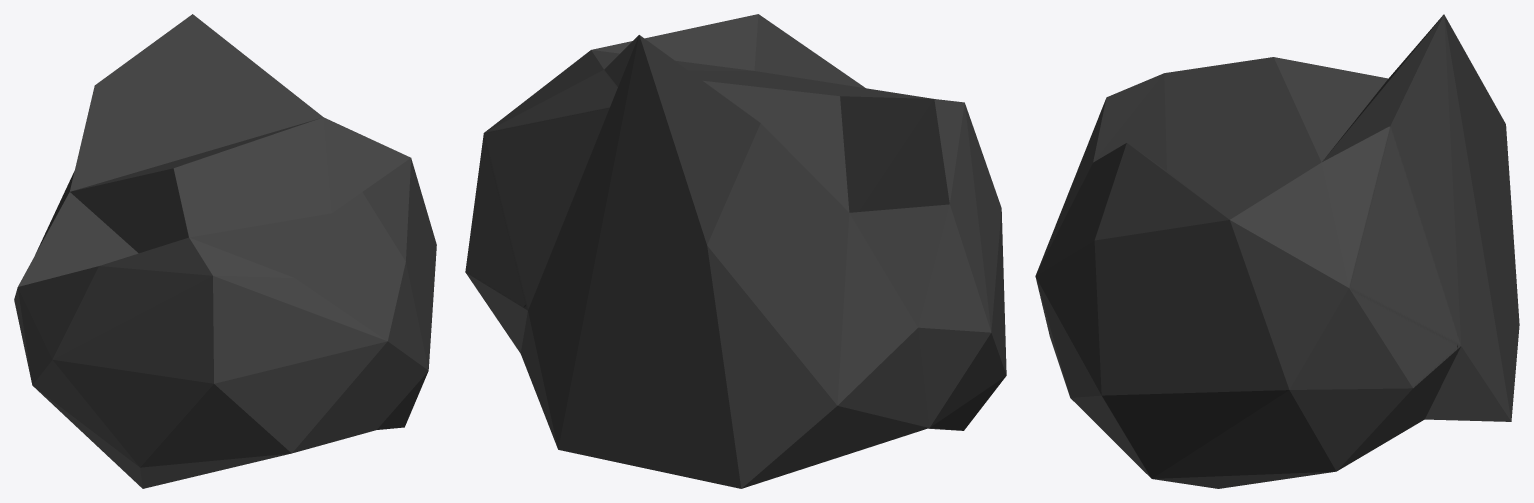
The model's file is stone004.fbx.
3 views of the same model, side by side, from view 1: azimuth 30°, elevation 25°; view 2: azimuth 150°, elevation 25°; view 3: azimuth 270°, elevation 25° (orthographic). The views are drawn at different scales.
Visible parts, largest first — view 1: Stone; view 2: Stone; view 3: Stone.
Boxes of the visible parts, x1,y1,x2,y2 form: Stone: [14, 14, 436, 488]; Stone: [465, 14, 1006, 488]; Stone: [1035, 14, 1519, 488].
Size of the model in its own units: 418 by 367 by 375.
